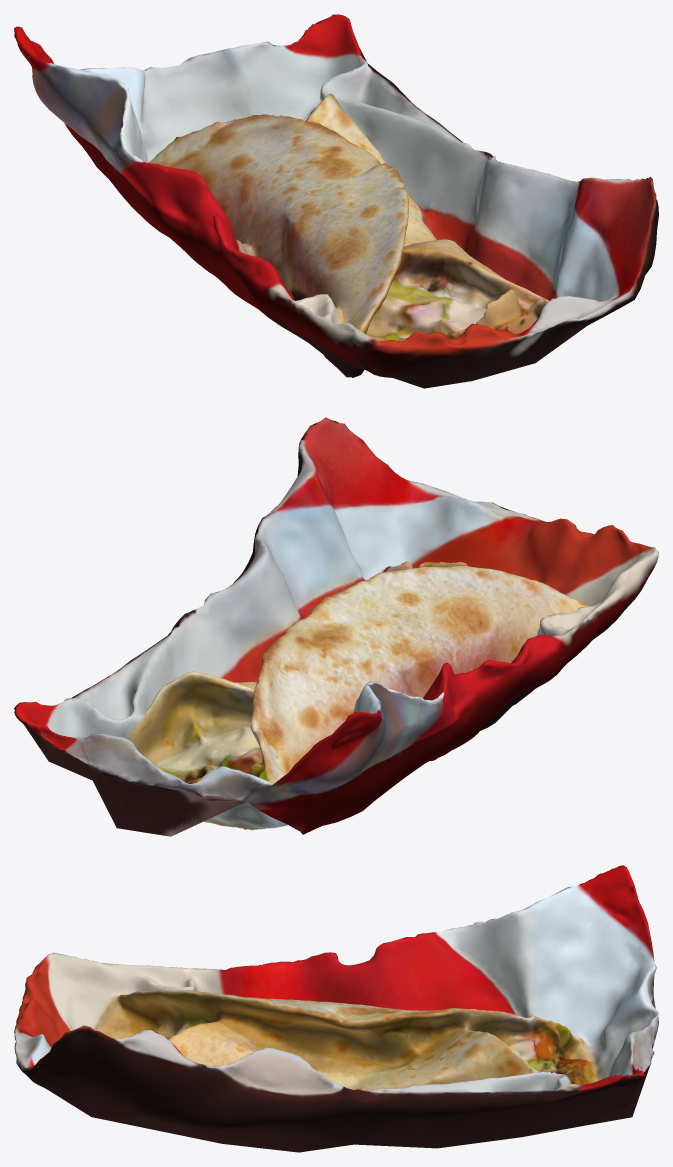
Rendered from Beef_Soft(Tacos_Category)_1757504337270.glb.
The picture shows the model from 3 angles, top to bottom: view 1: azimuth 30°, elevation 25°; view 2: azimuth 150°, elevation 25°; view 3: azimuth 270°, elevation 25°; orthographic projection. The views are drawn at different scales.
Visible parts, largest first — view 1: 3DModel; view 2: 3DModel; view 3: 3DModel.
Boxes of the visible parts, box(x1,y1,x2,y2) form: 3DModel: box(14, 14, 658, 388); 3DModel: box(14, 417, 658, 836); 3DModel: box(14, 865, 658, 1152).
Bounding box in the file's own units: 0.1258 × 0.0728 × 0.2235.
1 material, 1 textured.
